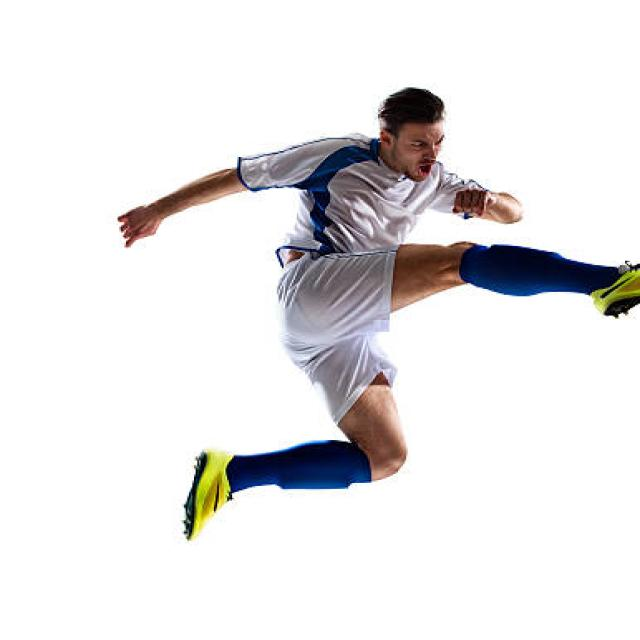player: (61, 25, 640, 544)
